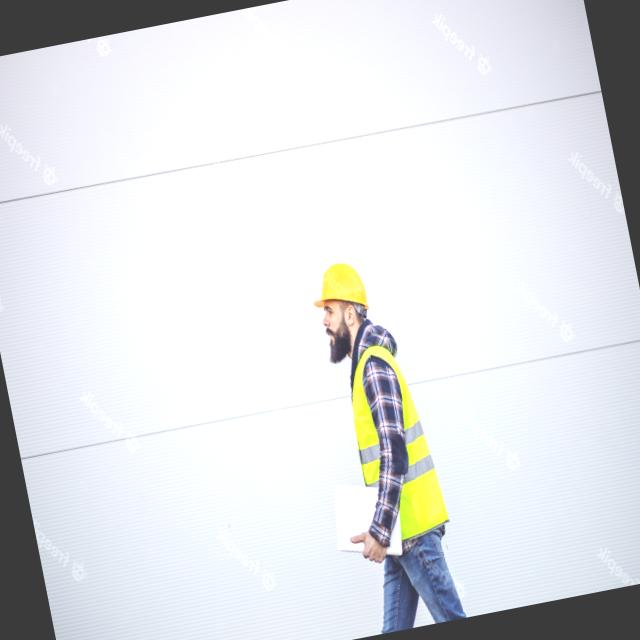helmet: (303, 255, 375, 312)
no-goggles: (317, 298, 348, 326)
vest: (333, 327, 446, 546)
